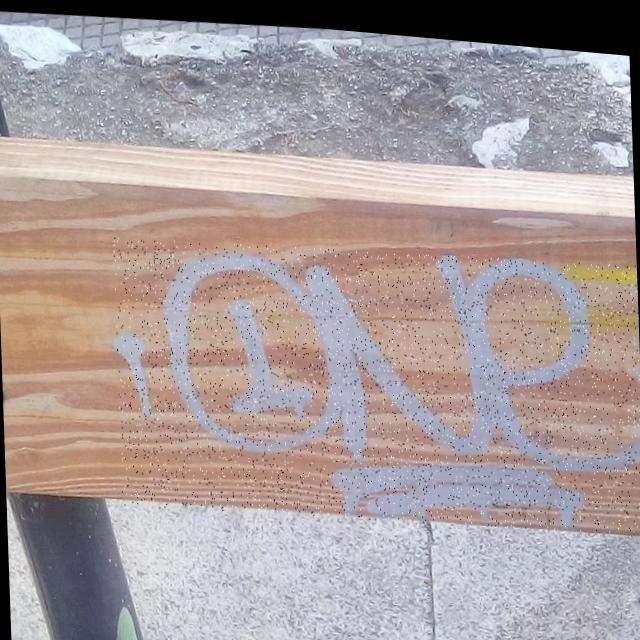-: (112, 217, 640, 540)
